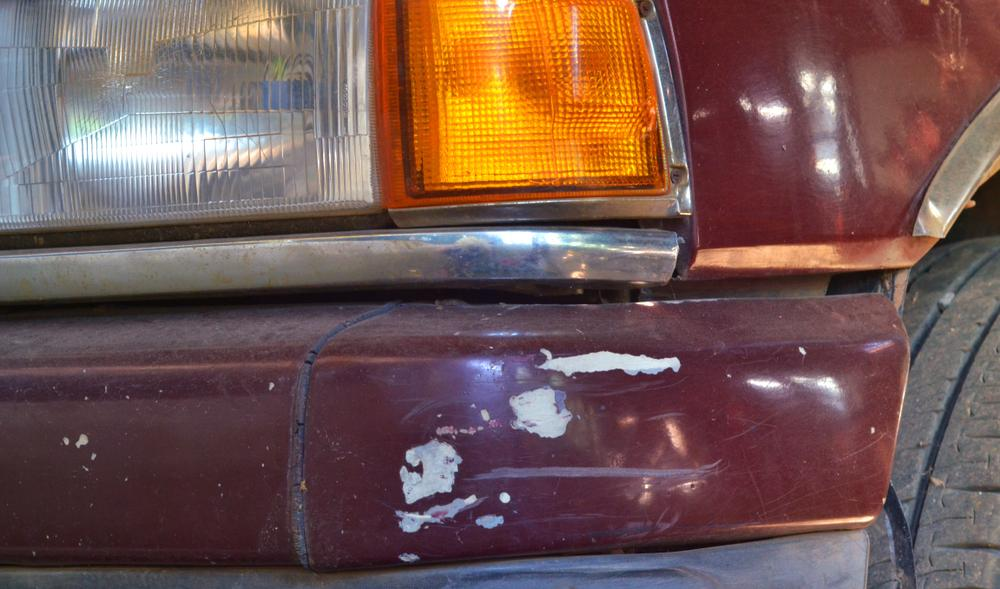scratch: (372, 331, 791, 567)
